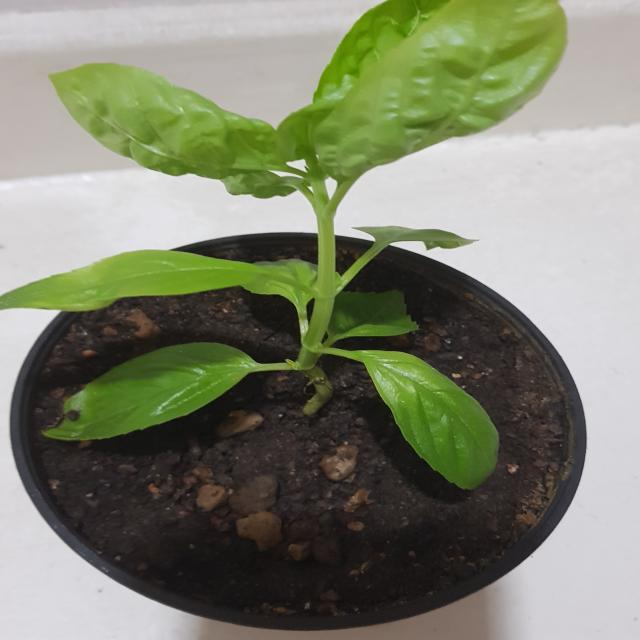Sweet Basil: (2, 2, 573, 500)
